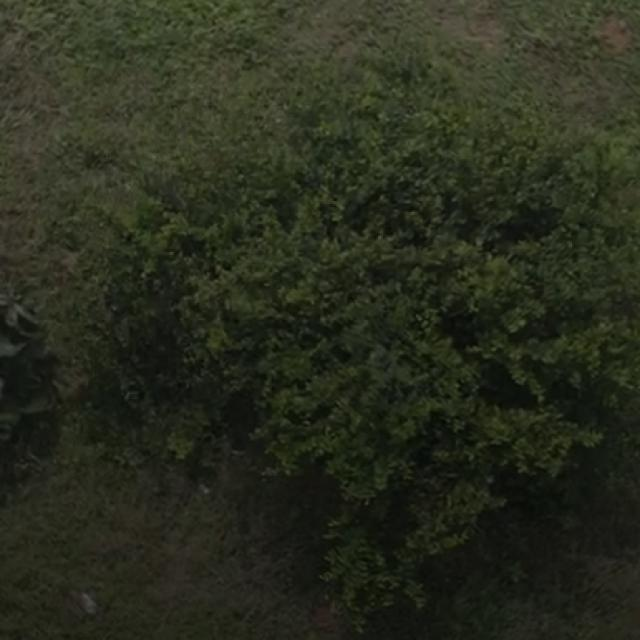notMangoTree: (116, 87, 640, 582)
